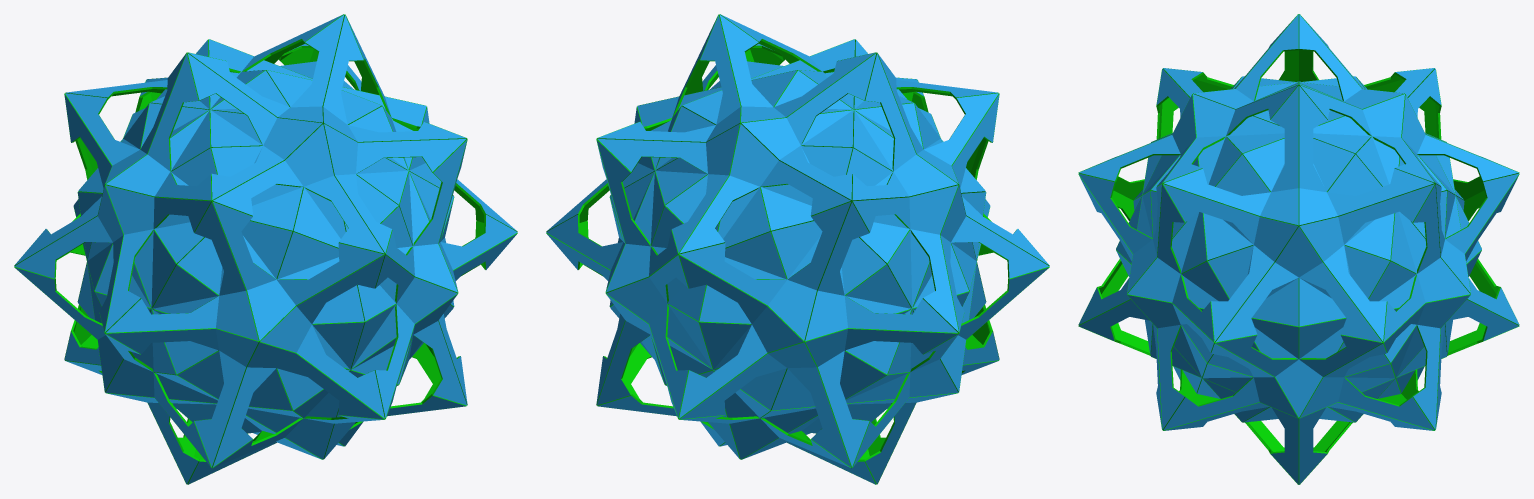
File: MedialIcosacronicHexecontahedronS.glb
3 renders of one model, left to right at view 1: azimuth 30°, elevation 25°; view 2: azimuth 150°, elevation 25°; view 3: azimuth 270°, elevation 25°, orthographic. The views are drawn at different scales.
Visible parts, largest first — view 1: root; view 2: root; view 3: root.
Part boxes in pixels (x1,y1,x2,y2): root: [14, 14, 517, 484]; root: [546, 14, 1049, 484]; root: [1078, 14, 1519, 484].
Size of the model in its own units: 10.38 by 10.38 by 10.38.
